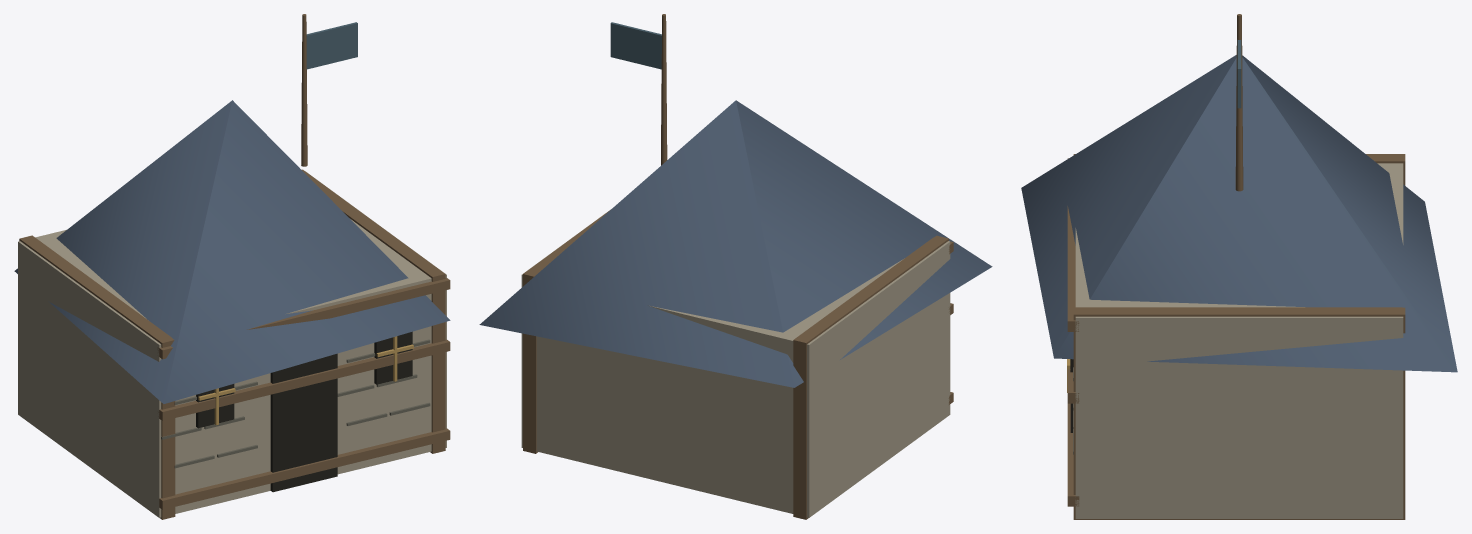
File: b-house-french.glb
3 renders of one model, left to right at view 1: azimuth 30°, elevation 25°; view 2: azimuth 150°, elevation 25°; view 3: azimuth 270°, elevation 25°, orthographic. The views are drawn at different scales.
Parts seen in each view (by area): view 1: Structure; view 2: Structure; view 3: Structure.
Boxes of the visible parts, x1,y1,x2,y2 form: Structure: [14, 14, 450, 519]; Structure: [479, 14, 992, 519]; Structure: [1021, 14, 1457, 519].
Size of the model in its own units: 4.53 by 5.33 by 4.53.
